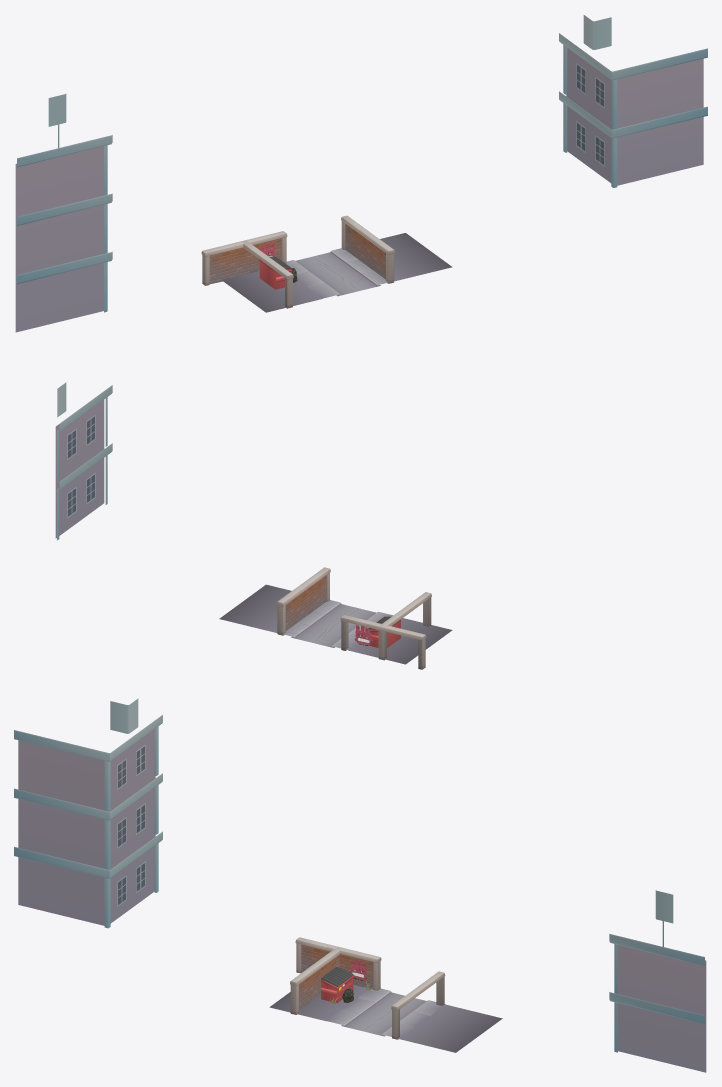
Rendered from UrbanBrickWalls01.prefab.glb.
The picture shows the model from 3 angles, top to bottom: view 1: azimuth 30°, elevation 25°; view 2: azimuth 150°, elevation 25°; view 3: azimuth 330°, elevation 25°; orthographic projection.
Parts seen in each view (by area): view 1: FarBackBuilding01, UrbanBrickWalls01, BrickWall (2), BrickWall, BrickWall (1), DumpsterRed; view 2: FarBackBuilding01, UrbanBrickWalls01, BrickWall, BrickWall (2), BrickWall (1); view 3: FarBackBuilding01, UrbanBrickWalls01, BrickWall (2), BrickWall (1), BrickWall, DumpsterRed.
Boxes of the visible parts, box(x1,y1,x2,y2) form: FarBackBuilding01: box(15, 15, 707, 332); UrbanBrickWalls01: box(222, 233, 452, 312); BrickWall (2): box(201, 231, 287, 285); BrickWall: box(341, 215, 394, 283); BrickWall (1): box(242, 240, 293, 308); DumpsterRed: box(259, 256, 292, 289); FarBackBuilding01: box(55, 382, 112, 540); UrbanBrickWalls01: box(219, 584, 452, 664); BrickWall: box(276, 567, 330, 635); BrickWall (2): box(340, 615, 426, 669); BrickWall (1): box(378, 592, 431, 660); FarBackBuilding01: box(14, 698, 706, 1072); UrbanBrickWalls01: box(269, 984, 502, 1052); BrickWall (2): box(295, 937, 381, 990); BrickWall (1): box(290, 947, 342, 1014); BrickWall: box(391, 971, 445, 1039); DumpsterRed: box(320, 967, 353, 1003).
Bounding box in the file's own units: 76.34 × 26.74 × 10.17.
5 materials, 4 textured.
